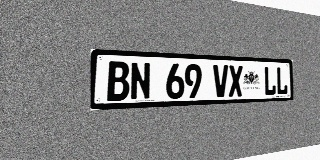6: (166, 63, 184, 99)
9: (185, 64, 202, 98)
B: (107, 61, 129, 101)
L: (264, 66, 276, 96), (276, 67, 288, 95)
N: (130, 62, 151, 100)
V: (213, 65, 228, 97)
X: (229, 65, 243, 97)
